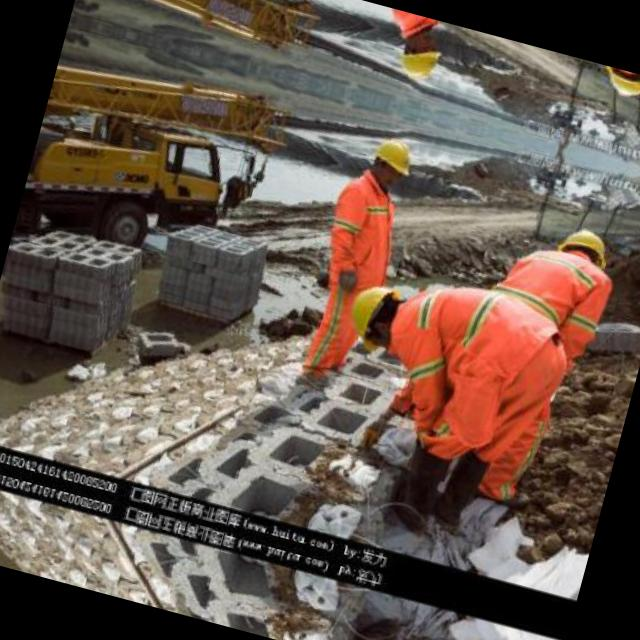helmet: (338, 276, 421, 361), (361, 128, 418, 193), (389, 24, 446, 89), (550, 219, 614, 276), (594, 64, 640, 105)
